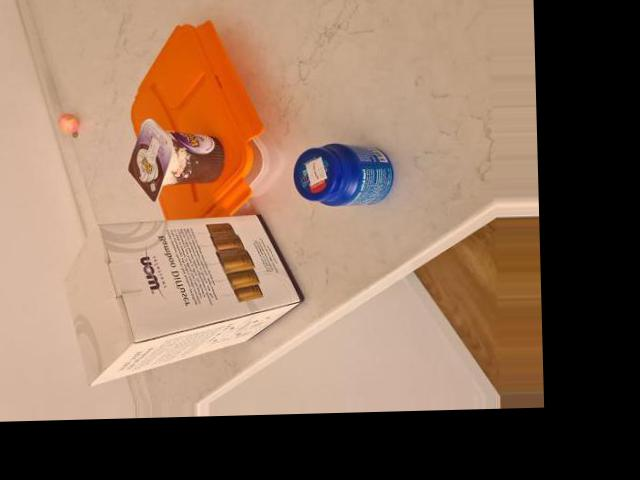milky: (120, 113, 227, 206)
